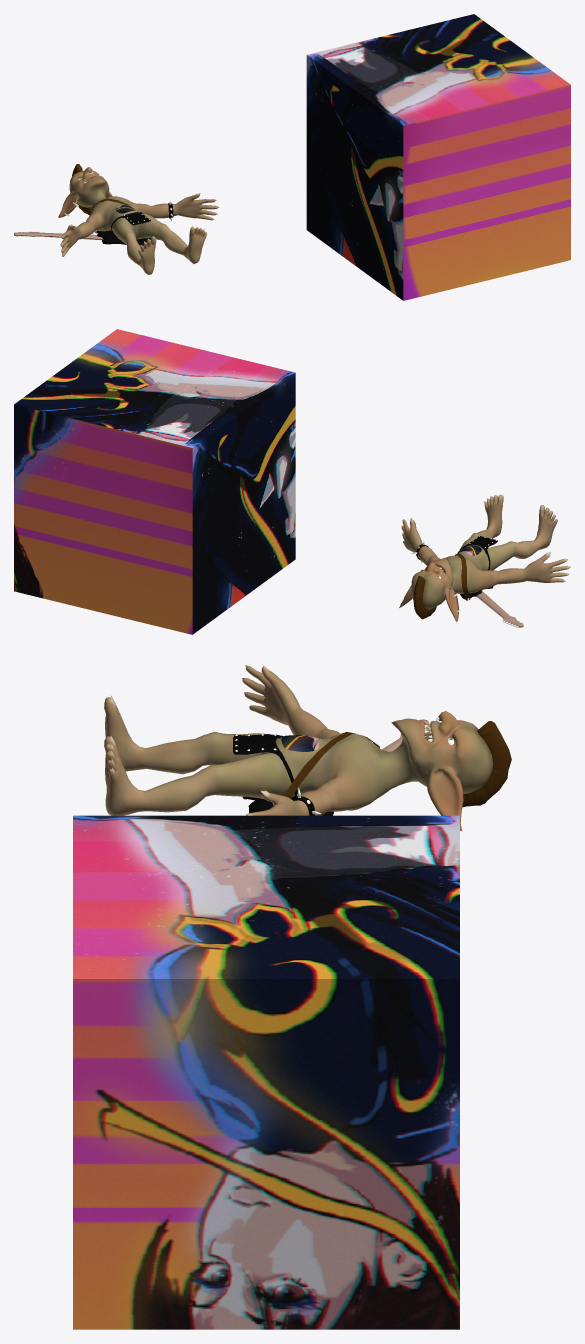
The model's file is goblin.gltf.
3 views of the same model, one above another, from view 1: azimuth 30°, elevation 25°; view 2: azimuth 150°, elevation 25°; view 3: azimuth 270°, elevation 25° (orthographic). The views are drawn at different scales.
Parts seen in each view (by area): view 1: Cube, goblin; view 2: Cube, goblin; view 3: Cube, goblin.
Boxes of the visible parts, x1,y1,x2,y2 form: Cube: (306, 14, 570, 300); goblin: (14, 164, 218, 274); Cube: (14, 329, 295, 634); goblin: (399, 494, 570, 627); Cube: (73, 815, 459, 1329); goblin: (104, 663, 511, 831).
Bounding box in the file's own units: 5.6 × 2 × 2.27.
3 materials, 3 textured.
